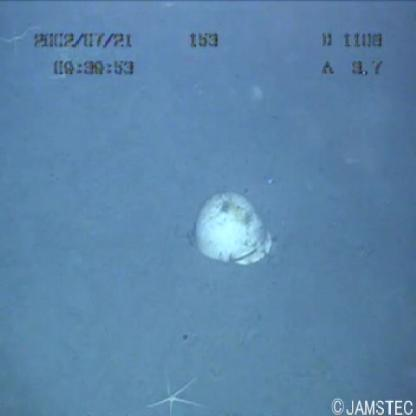Rác: (169, 182, 291, 276)
